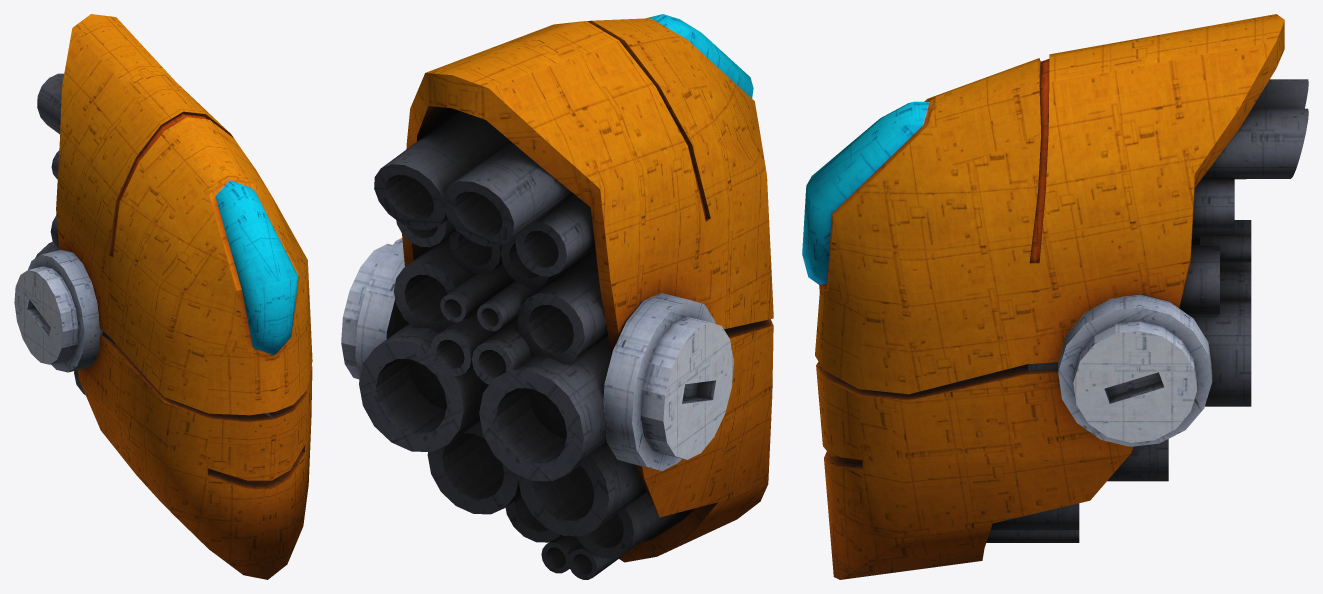
File: MonsterA1.obj
3 renders of one model, left to right at view 1: azimuth 30°, elevation 25°; view 2: azimuth 150°, elevation 25°; view 3: azimuth 270°, elevation 25°, orthographic. The views are drawn at different scales.
Parts seen in each view (by area): view 1: Box001; view 2: Box001; view 3: Box001.
Part boxes in pixels (x1,y1,x2,y2): Box001: (14, 14, 312, 579); Box001: (341, 14, 773, 579); Box001: (802, 14, 1308, 579).
Size of the model in its own units: 114 by 215 by 177.
Materials: 1 (1 with a texture image).
